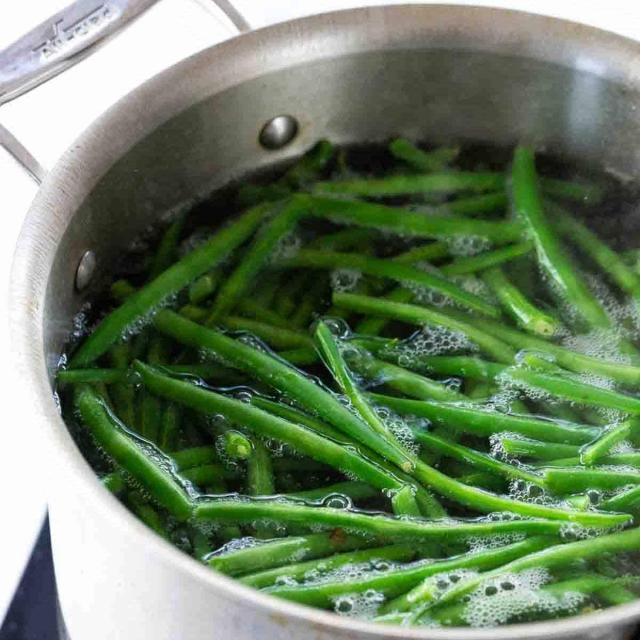Beans: (70, 130, 640, 624)
